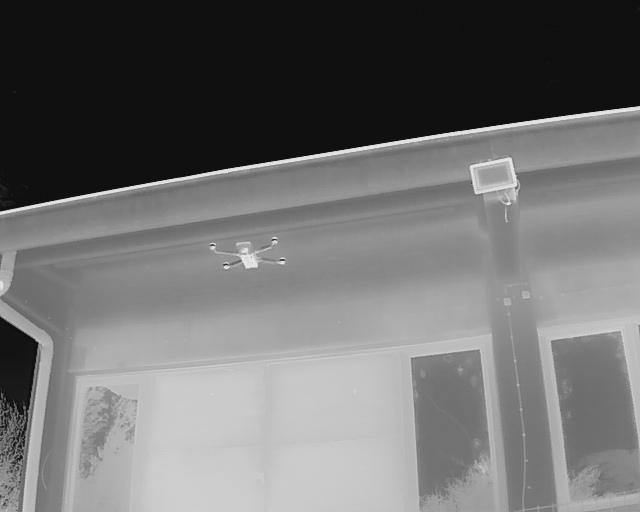drone: (199, 229, 297, 284)
